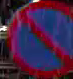No Stopping: (8, 0, 72, 78)
